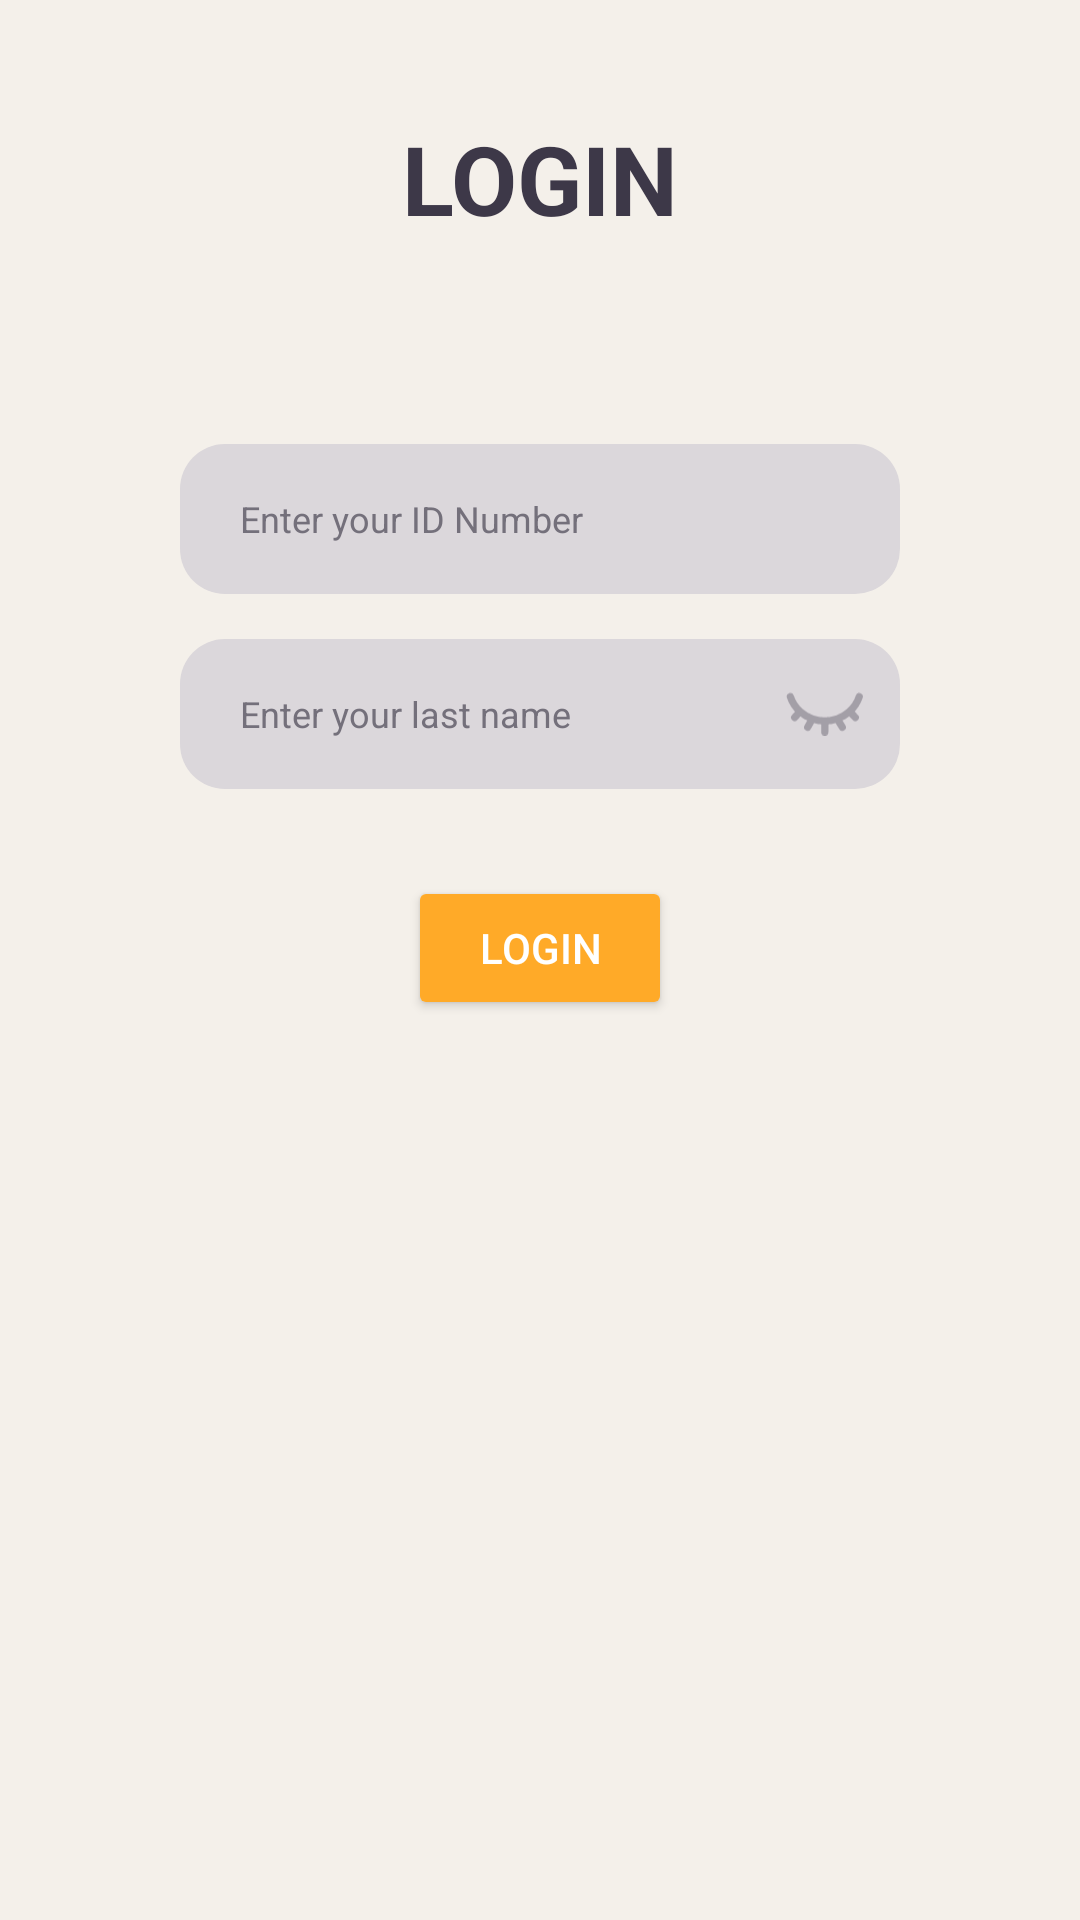

Named icons in this screenshot (1080px x 1920px) and their bounding boxes, BBox(x1, y1, x2, y2):
hide pass: BBox(750, 639, 900, 789)
